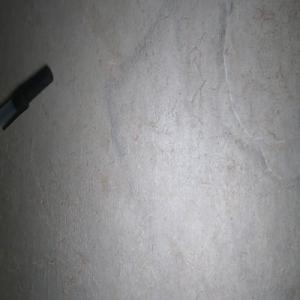Pen: (0, 65, 53, 130)
